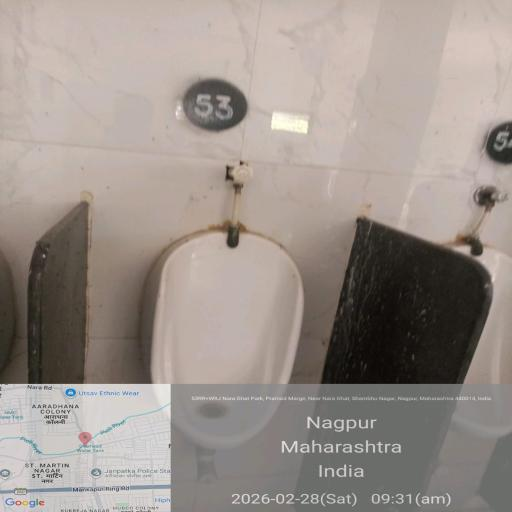clean_floor: (8, 7, 512, 194)
clean_urinal: (108, 216, 330, 483)
